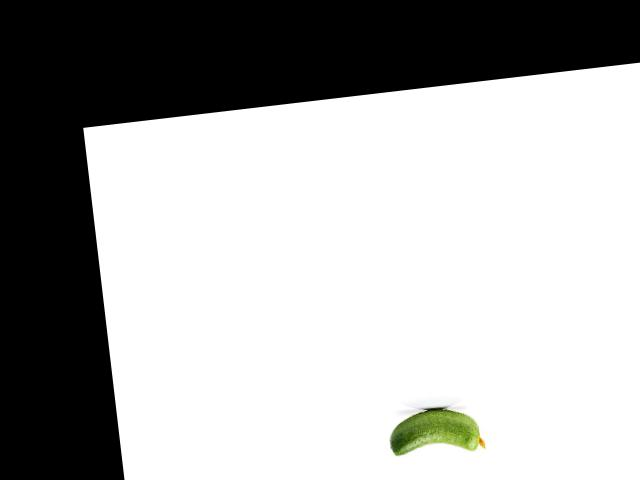cucumber: (385, 402, 486, 460)
